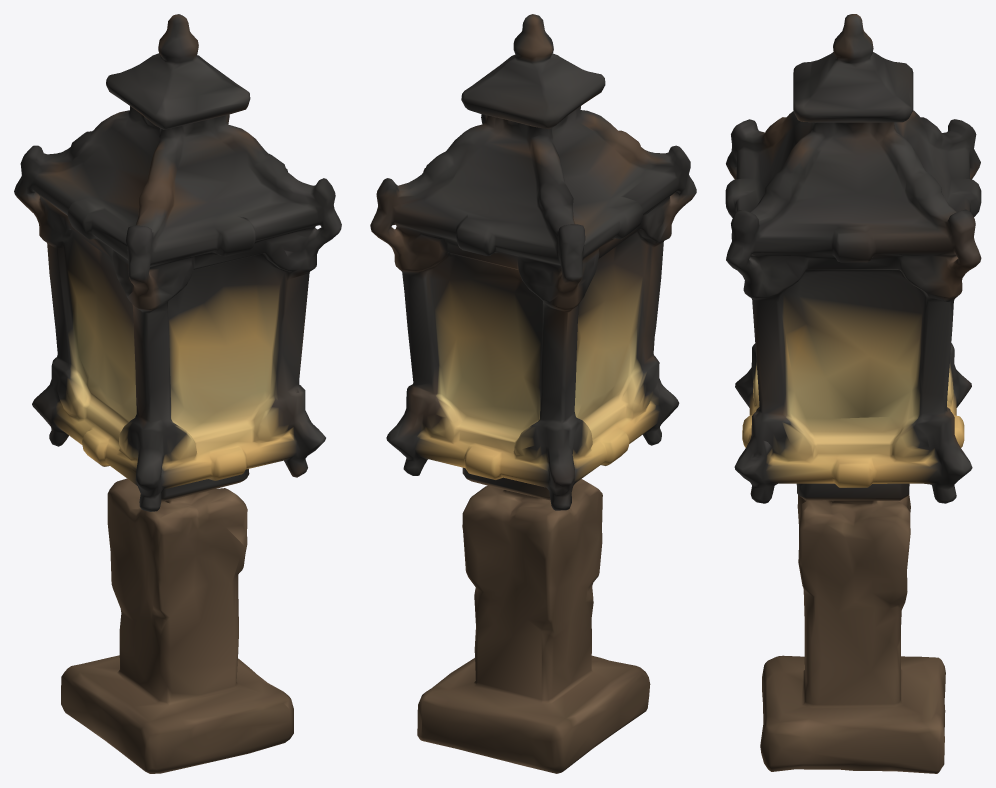
Rendered from lantern.glb.
3 views of the same model, side by side, from view 1: azimuth 30°, elevation 25°; view 2: azimuth 150°, elevation 25°; view 3: azimuth 270°, elevation 25° (orthographic).
Visible parts, largest first — view 1: geometry_0; view 2: geometry_0; view 3: geometry_0.
Boxes of the visible parts, box(x1,y1,x2,y2) form: geometry_0: box(14, 14, 341, 773); geometry_0: box(370, 14, 696, 773); geometry_0: box(725, 14, 981, 773).
Size of the model in its own units: 0.6219 by 2 by 0.6408.
